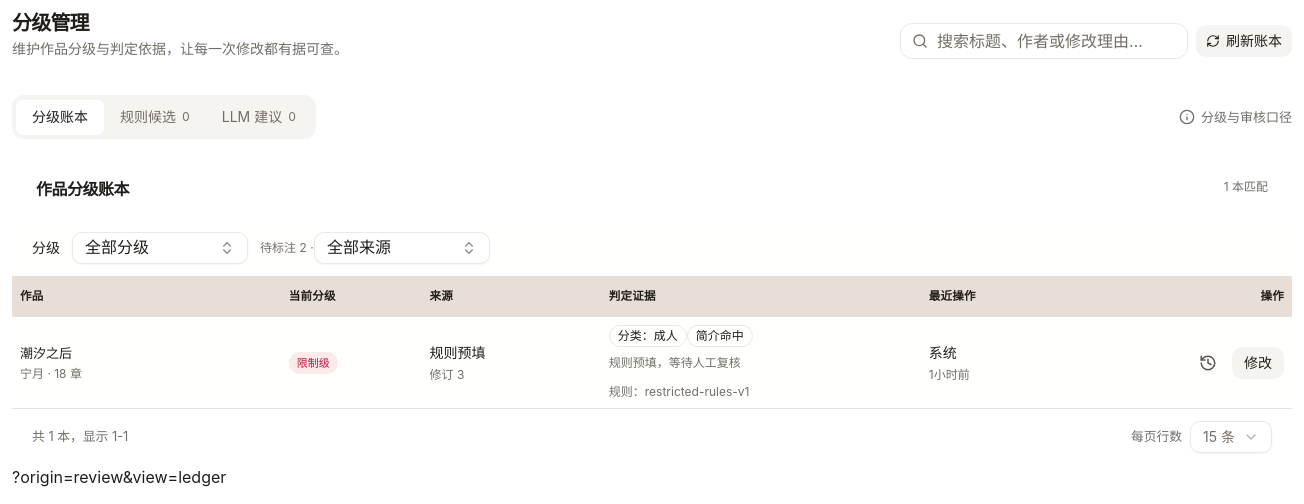
ContentRatingsTab › 工作视图写入 URL 并保留其他参数、账本搜索和当前视图刷新
The image size is (1304, 504).
Expected: the text "潮汐之后" is shown, 20,345 -> 72,361
In the search field: [1044, 41] box 900,23 -> 1188,59, type "潮汐"
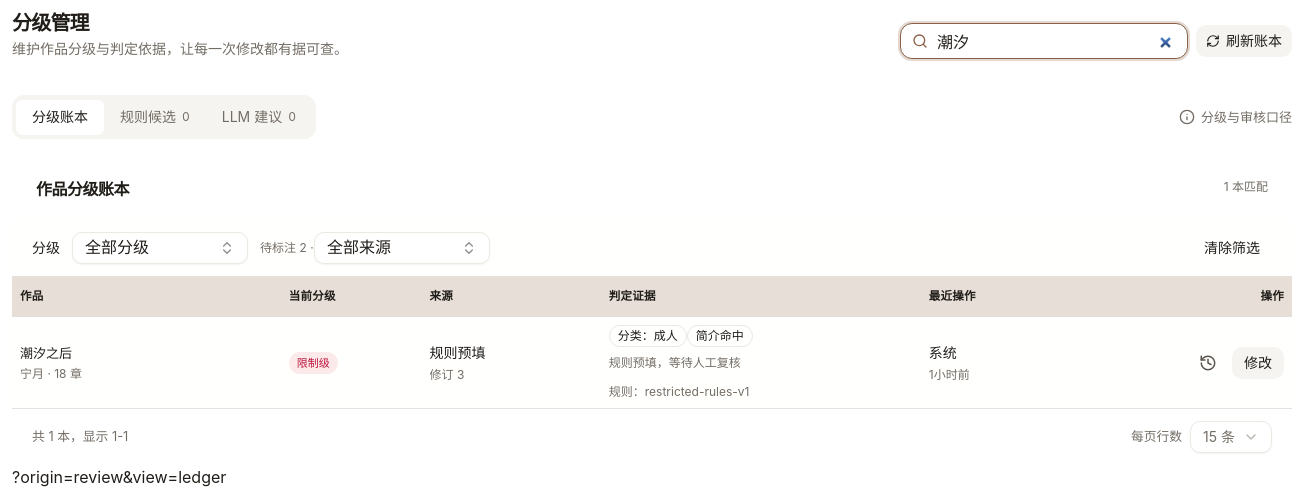
Click the tab "规则候选 0": [155, 117] box 104,100 -> 206,134
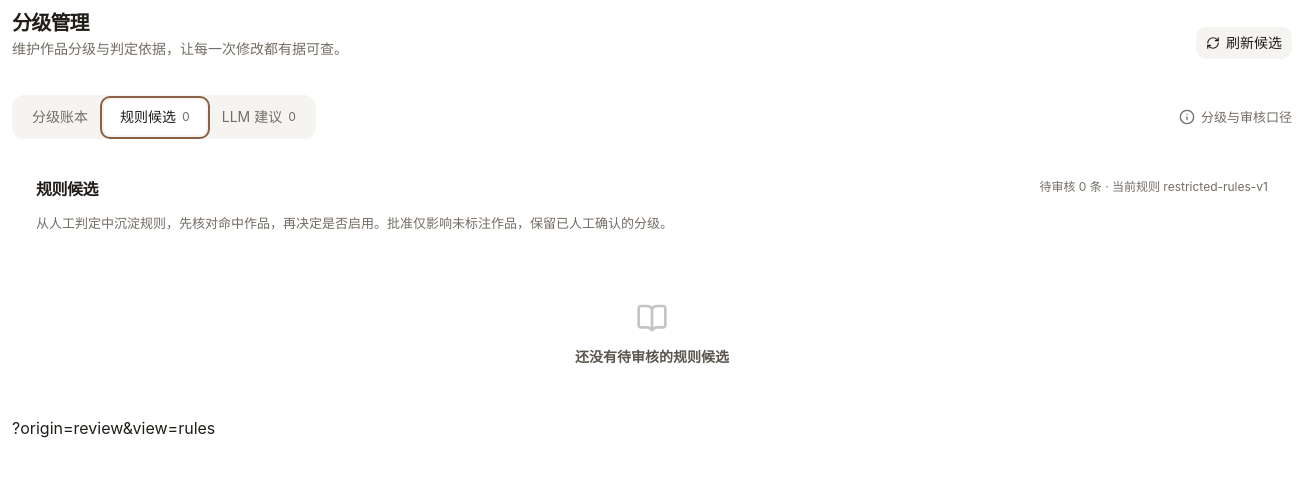
Now the text with test id "rating-route" shows "origin=review&view=rules", box 12,418 -> 215,438
Now the element "内容分级账本" is gone
Click the button "刷新候选": [1244, 43] box 1196,27 -> 1292,59
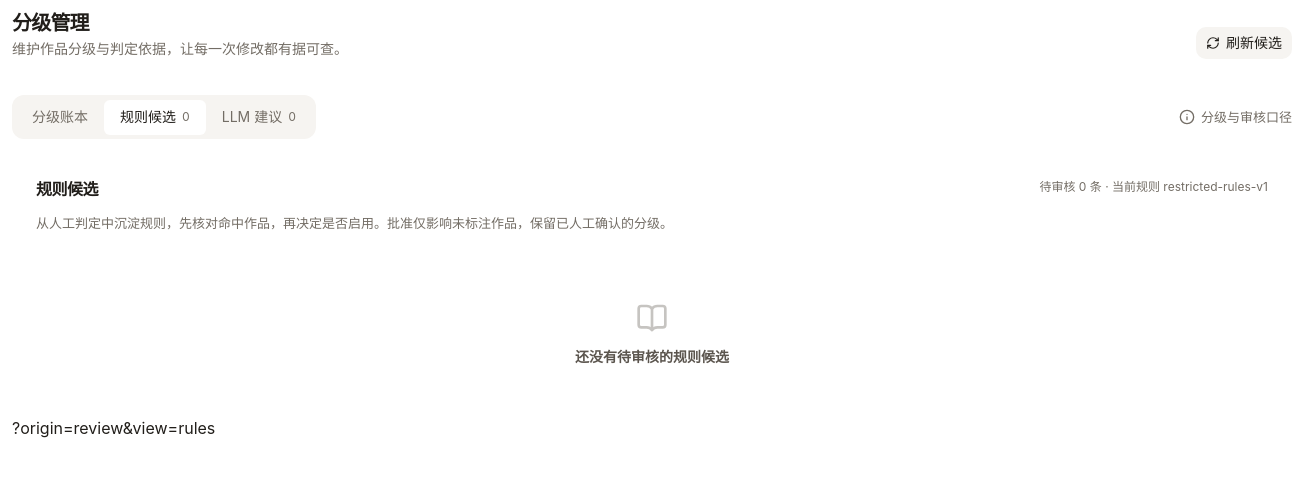
Click the tab "LLM 建议 0": [259, 117] box 206,100 -> 312,134
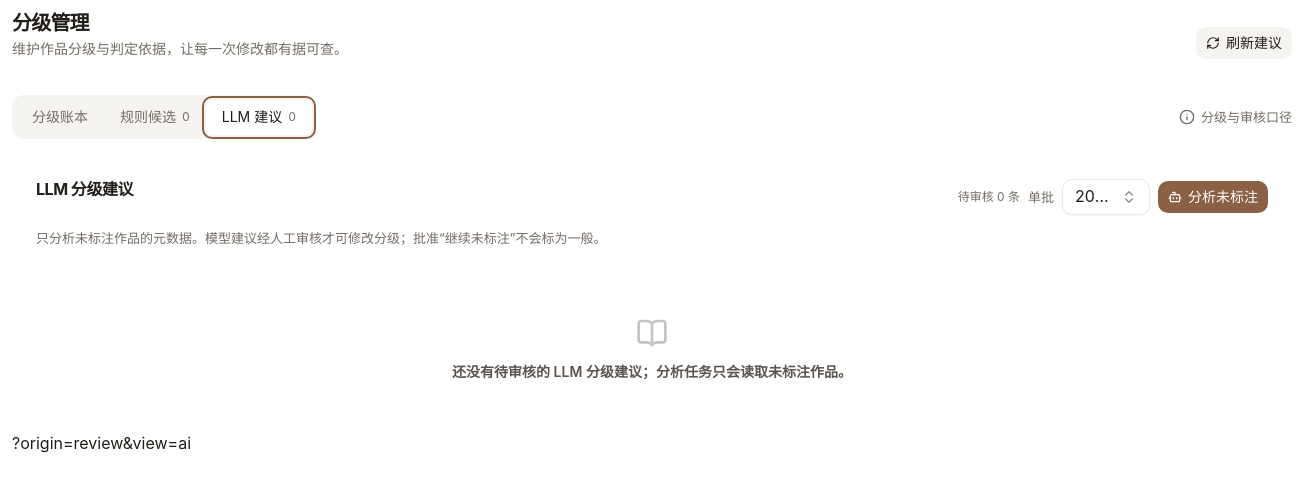
Now the text with test id "rating-route" shows "view=ai", box 12,434 -> 191,454
Now the button "刷新建议" is shown, box 1196,27 -> 1292,59
Click the tab "分级账本": [60, 117] box 16,100 -> 104,134
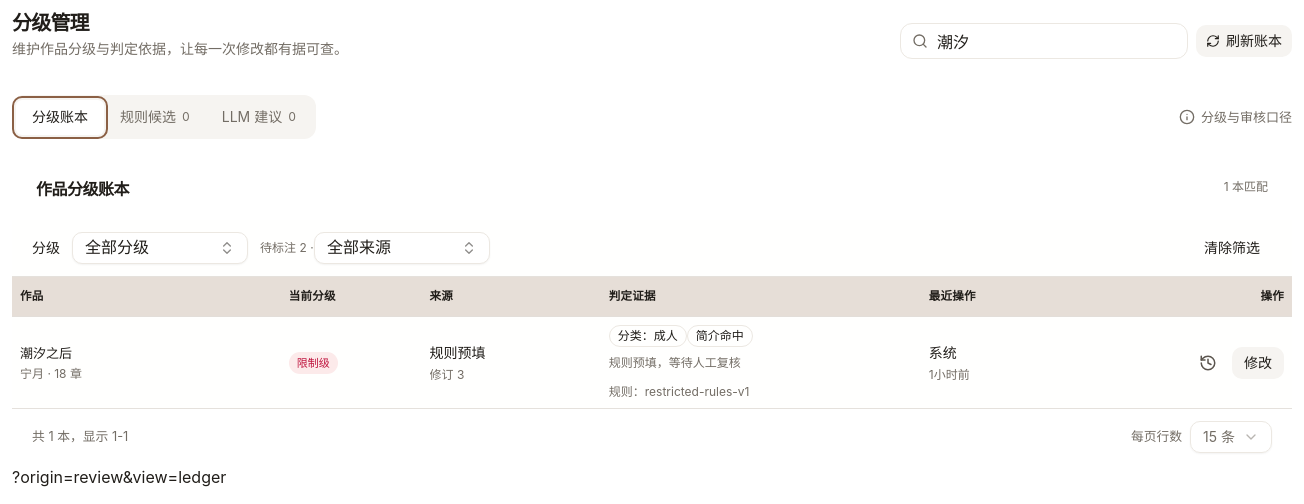
Now the search field holds "潮汐", box 900,23 -> 1188,59
